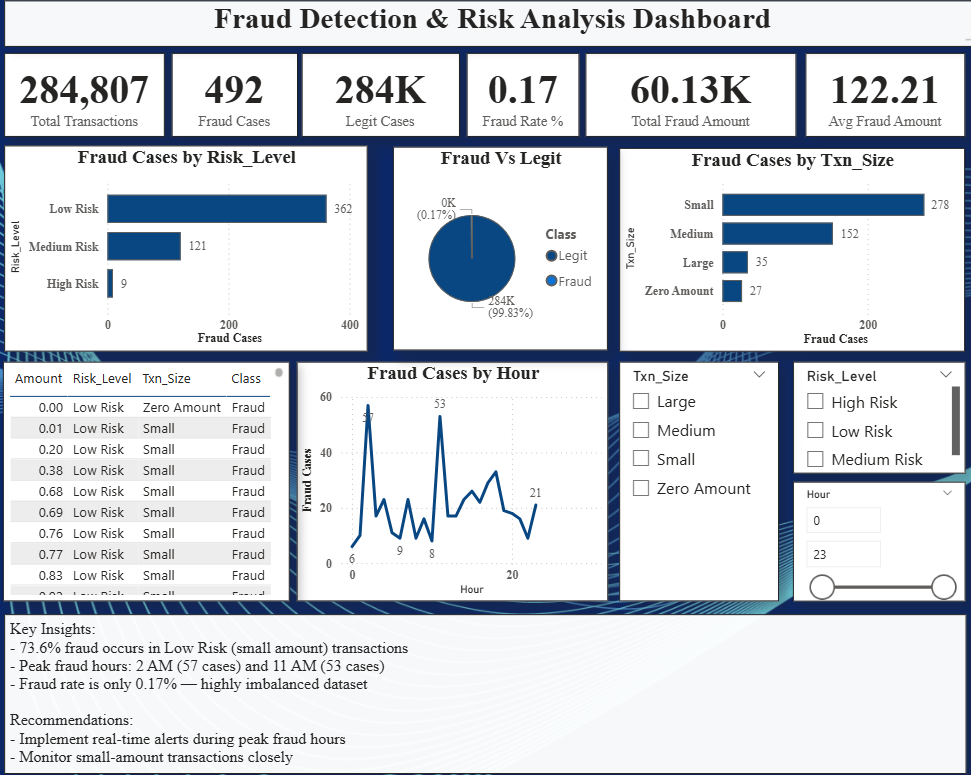

The dashboard page shown, as its layout file describes it:
{"tool":"powerbi","page":{"name":"Page 1","canvas":[1000,800],"ordinal":0},"visuals":[{"type":"card","title":"Total Transaction","fields":{"Values":["fraud_powerbi.Total Transactions"]},"box":[11,60,161,84],"z":0},{"type":"card","fields":{"Values":["fraud_powerbi.Fraud Cases"]},"box":[179,60,126,84],"z":1000},{"type":"card","fields":{"Values":["fraud_powerbi.Legit Cases"]},"box":[309,60,158,84],"z":2000},{"type":"card","fields":{"Values":["fraud_powerbi.Fraud Rate %"]},"box":[475,60,113,84],"z":3000},{"type":"card","fields":{"Values":["fraud_powerbi.Total Fraud Amount"]},"box":[594,60,211,84],"z":4000},{"type":"card","fields":{"Values":["fraud_powerbi.Avg Fraud Amount"]},"box":[814,60,160,84],"z":5000},{"type":"clusteredBarChart","fields":{"Y":["fraud_powerbi.Fraud Cases"],"Category":["fraud_powerbi.Risk_Level"]},"box":[11,153,364,206],"z":6000},{"type":"lineChart","fields":{"Category":["fraud_powerbi.Hour"],"Y":["fraud_powerbi.Fraud Cases"]},"box":[304,370,312,240],"z":7000},{"type":"clusteredBarChart","fields":{"Y":["fraud_powerbi.Fraud Cases"],"Category":["fraud_powerbi.Txn_Size"]},"box":[628,155,346,204],"z":8000},{"type":"textbox","title":"Fraud Detection & Risk Analysis Dashboard","box":[11,7,977,46],"z":9000},{"type":"pieChart","title":"Fraud Vs Legit","fields":{"Category":["fraud_powerbi.Class"],"Y":["fraud_powerbi.Txn Count"]},"box":[401,154,215,204],"z":10000},{"type":"slicer","fields":{"Values":["fraud_powerbi.Risk_Level"]},"box":[801,370,173,112],"z":11000},{"type":"slicer","fields":{"Values":["fraud_powerbi.Txn_Size"]},"box":[628,370,160,240],"z":12000},{"type":"slicer","fields":{"Values":["fraud_powerbi.Hour"]},"box":[801,490,173,120],"z":13000},{"type":"tableEx","fields":{"Values":["fraud_powerbi.Amount","fraud_powerbi.Risk_Level","fraud_powerbi.Txn_Size","fraud_powerbi.Class"]},"box":[10,370,287,240],"z":14000},{"type":"textbox","box":[11,622,964,160],"z":15000}]}

Visuals, with their boxes in screenshot pixels (x1, y1, x2, y2), scaled from the page's 1000x800 canvas onto the 971x775 screenshot:
"Total Transaction" card: {"x1": 11, "y1": 58, "x2": 167, "y2": 140}
card - fraud_powerbi.Fraud Cases: {"x1": 174, "y1": 58, "x2": 296, "y2": 140}
card - fraud_powerbi.Legit Cases: {"x1": 300, "y1": 58, "x2": 453, "y2": 140}
card - fraud_powerbi.Fraud Rate %: {"x1": 461, "y1": 58, "x2": 571, "y2": 140}
card - fraud_powerbi.Total Fraud Amount: {"x1": 577, "y1": 58, "x2": 782, "y2": 140}
card - fraud_powerbi.Avg Fraud Amount: {"x1": 790, "y1": 58, "x2": 946, "y2": 140}
clusteredBarChart - fraud_powerbi.Fraud Cases x fraud_powerbi.Risk_Level: {"x1": 11, "y1": 148, "x2": 364, "y2": 348}
lineChart - fraud_powerbi.Hour x fraud_powerbi.Fraud Cases: {"x1": 295, "y1": 358, "x2": 598, "y2": 591}
clusteredBarChart - fraud_powerbi.Fraud Cases x fraud_powerbi.Txn_Size: {"x1": 610, "y1": 150, "x2": 946, "y2": 348}
"Fraud Detection & Risk Analysis Dashboard" textbox: {"x1": 11, "y1": 7, "x2": 959, "y2": 51}
"Fraud Vs Legit" pieChart: {"x1": 389, "y1": 149, "x2": 598, "y2": 347}
slicer - fraud_powerbi.Risk_Level: {"x1": 778, "y1": 358, "x2": 946, "y2": 467}
slicer - fraud_powerbi.Txn_Size: {"x1": 610, "y1": 358, "x2": 765, "y2": 591}
slicer - fraud_powerbi.Hour: {"x1": 778, "y1": 475, "x2": 946, "y2": 591}
tableEx - fraud_powerbi.Amount x fraud_powerbi.Risk_Level: {"x1": 10, "y1": 358, "x2": 288, "y2": 591}
textbox: {"x1": 11, "y1": 603, "x2": 947, "y2": 758}
